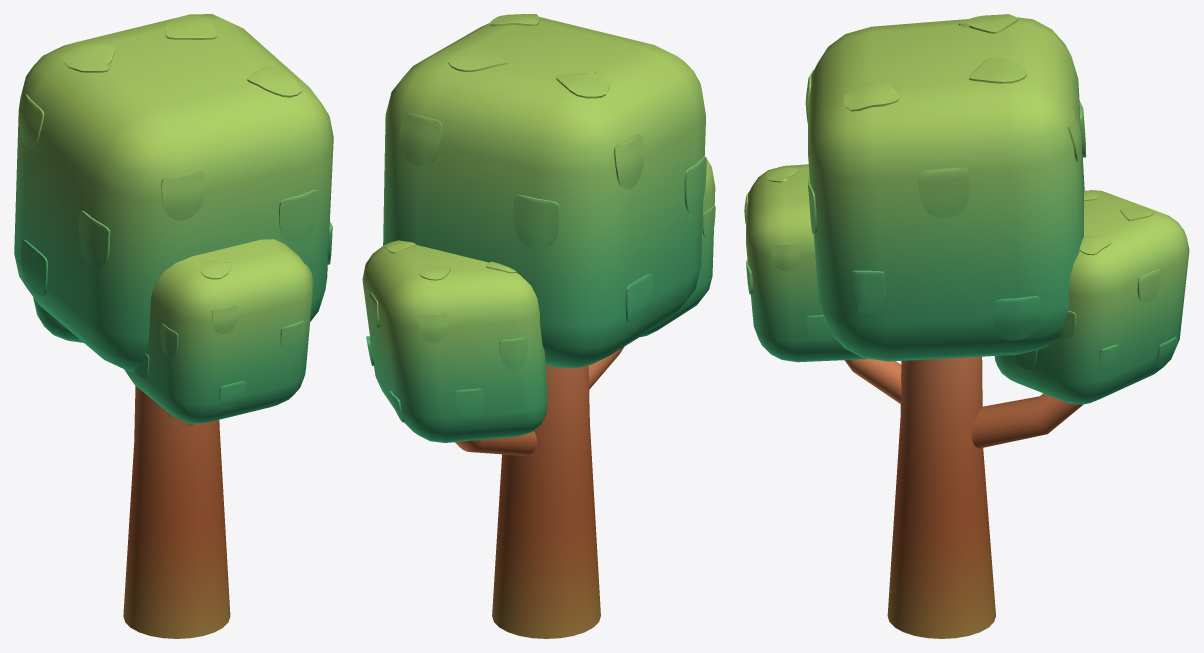
Rendered from Willow02.fbx.
3 views of the same model, side by side, from view 1: azimuth 30°, elevation 25°; view 2: azimuth 150°, elevation 25°; view 3: azimuth 270°, elevation 25° (orthographic).
Parts seen in each view (by area): view 1: Willow_leaf02, Trunk02; view 2: Willow_leaf02, Trunk02; view 3: Willow_leaf02, Trunk02.
Part boxes in pixels (x1,y1,x2,y2): Willow_leaf02: (14, 14, 333, 423); Trunk02: (123, 386, 230, 638); Willow_leaf02: (362, 14, 715, 442); Trunk02: (455, 347, 623, 638); Willow_leaf02: (744, 14, 1189, 404); Trunk02: (844, 356, 1083, 638).
Bounding box in the file's own units: 2.04 × 4.62 × 3.28.
